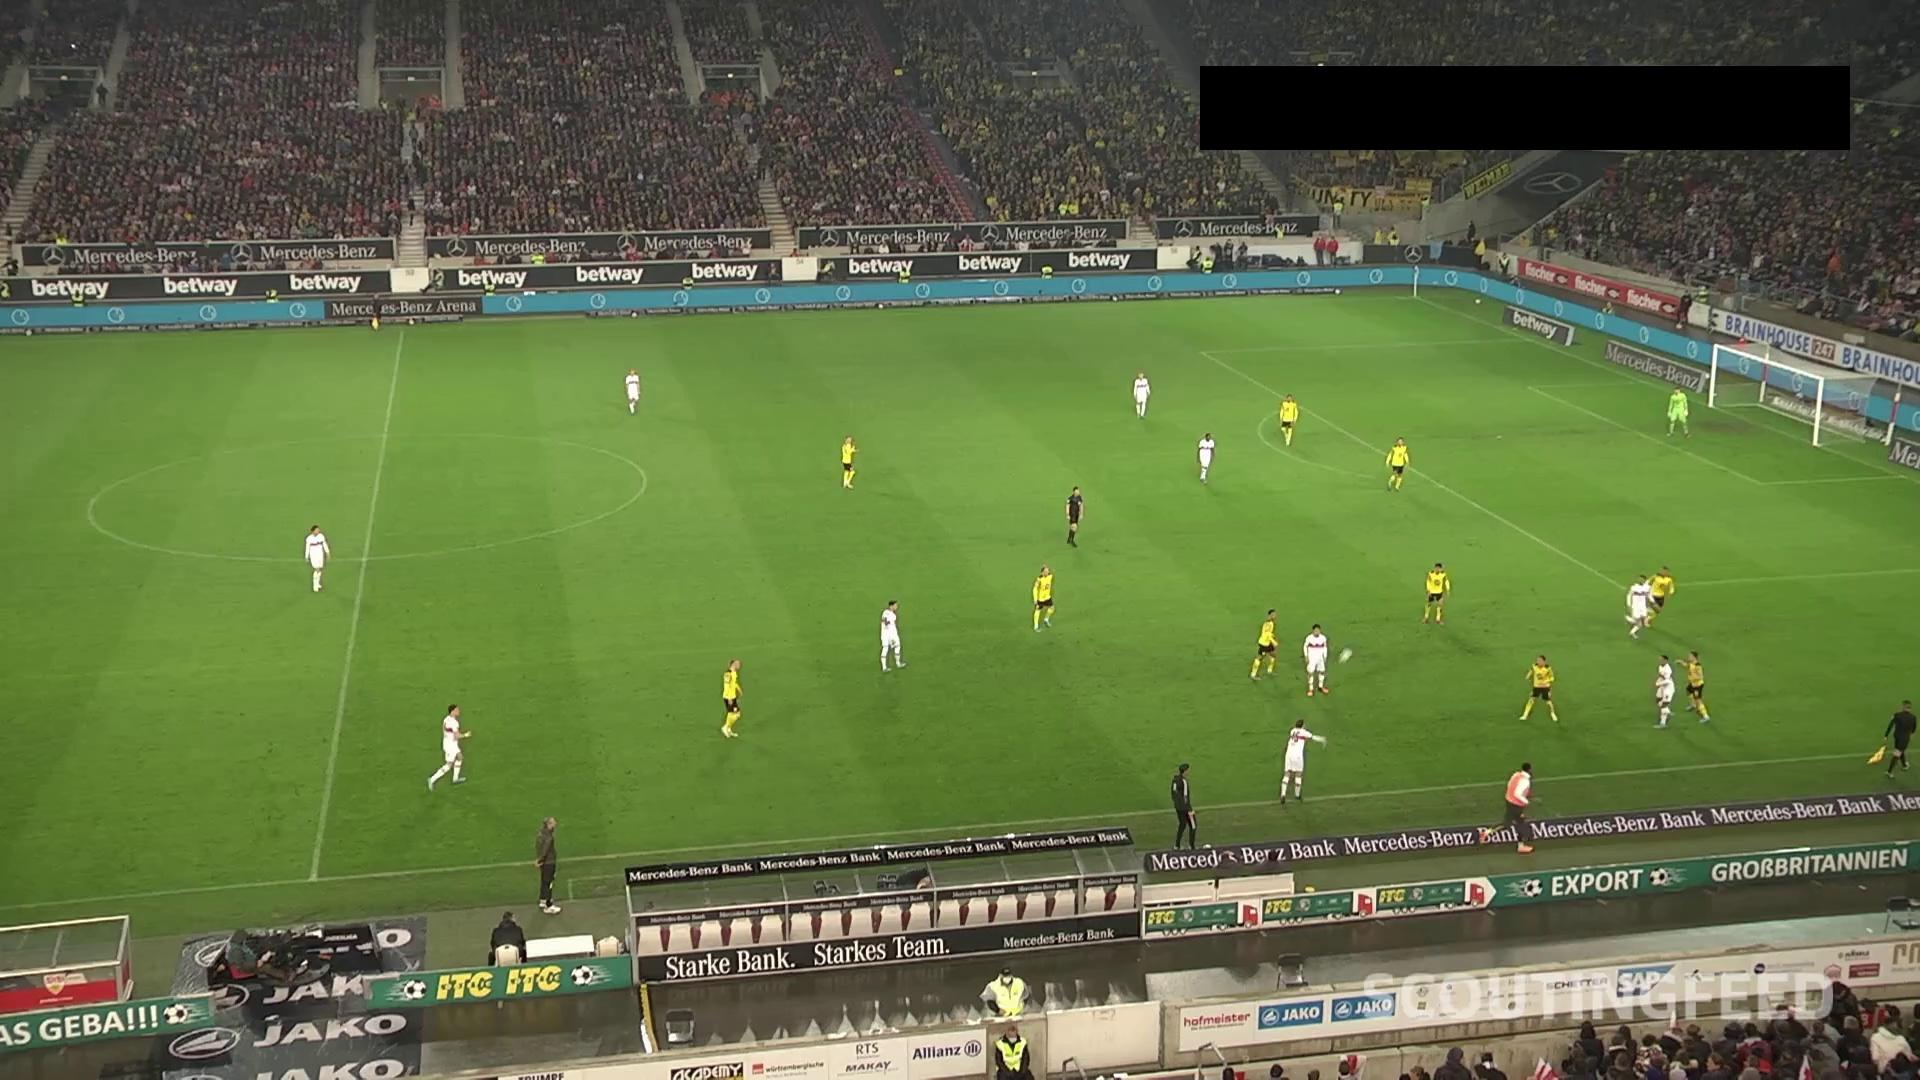Location-of-ball: (1334, 643, 1369, 668)
